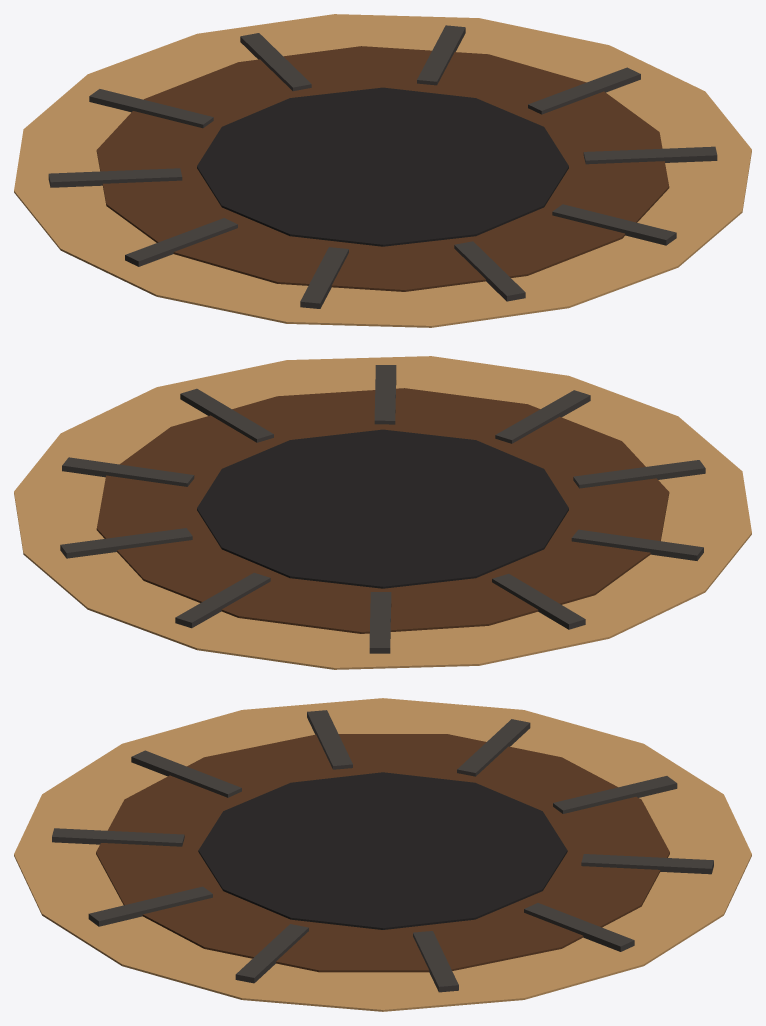
File: Crater.fbx
The picture shows the model from 3 angles, top to bottom: view 1: azimuth 30°, elevation 25°; view 2: azimuth 150°, elevation 25°; view 3: azimuth 270°, elevation 25°; orthographic projection.
Parts seen in each view (by area): view 1: Crater; view 2: Crater; view 3: Crater.
Boxes of the visible parts, left/top/right/bottom form: Crater: left=14, top=14, right=751, bottom=327; Crater: left=14, top=356, right=751, bottom=669; Crater: left=14, top=698, right=751, bottom=1011.
Size of the model in its own units: 18 by 0.2 by 18.
